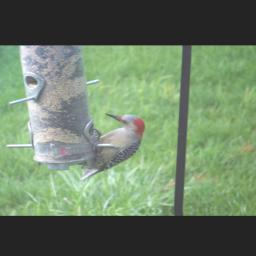Woodpecker: (75, 112, 147, 182)
